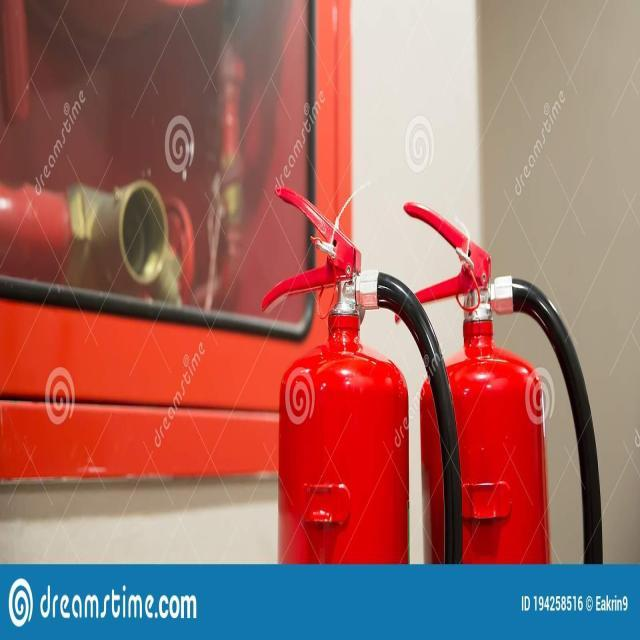FireExtinguisher: (388, 194, 604, 566), (259, 180, 464, 564)
